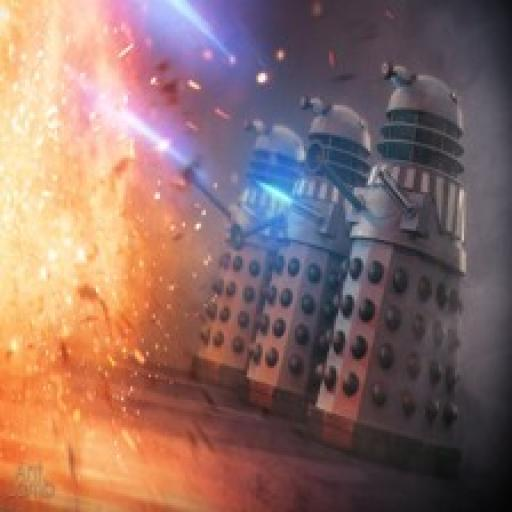dalek: (298, 53, 465, 480), (228, 91, 374, 426), (178, 114, 305, 395)
